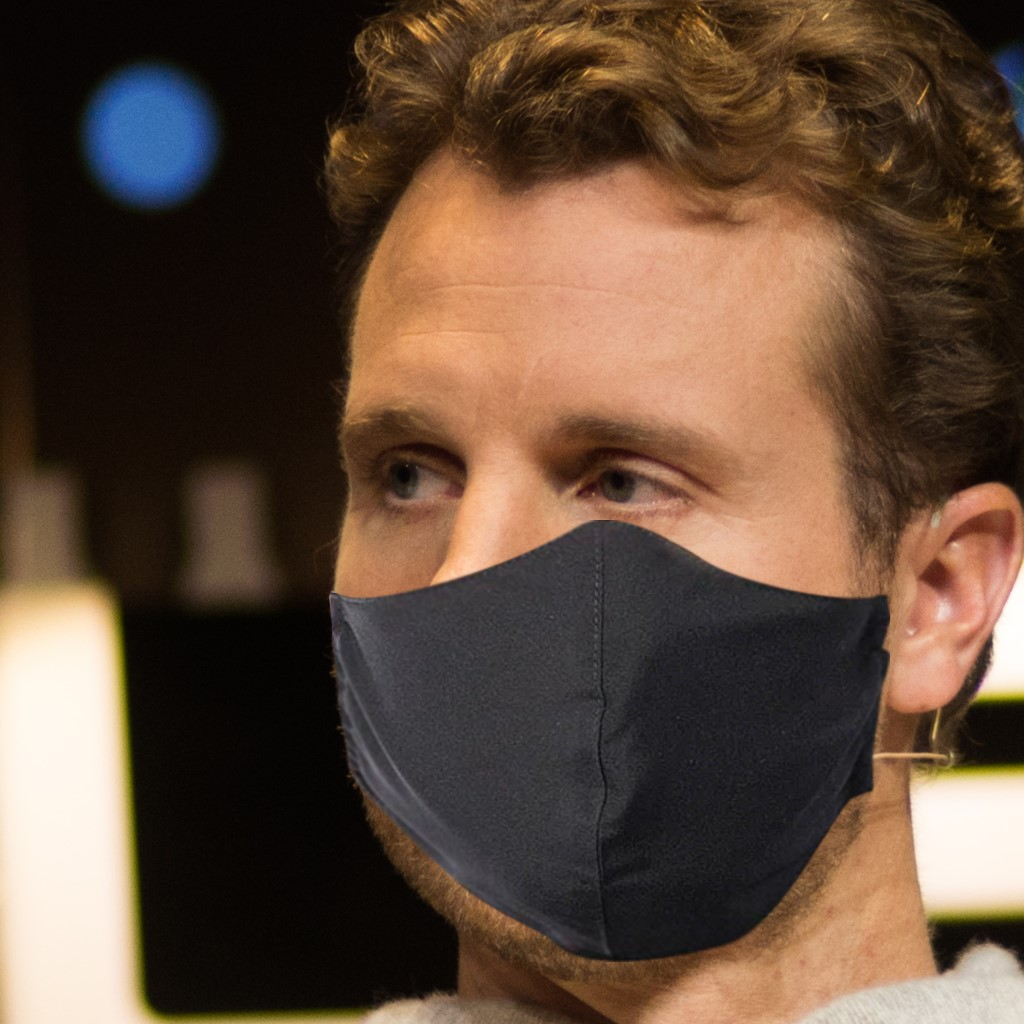con_mascara: (318, 108, 928, 985)
